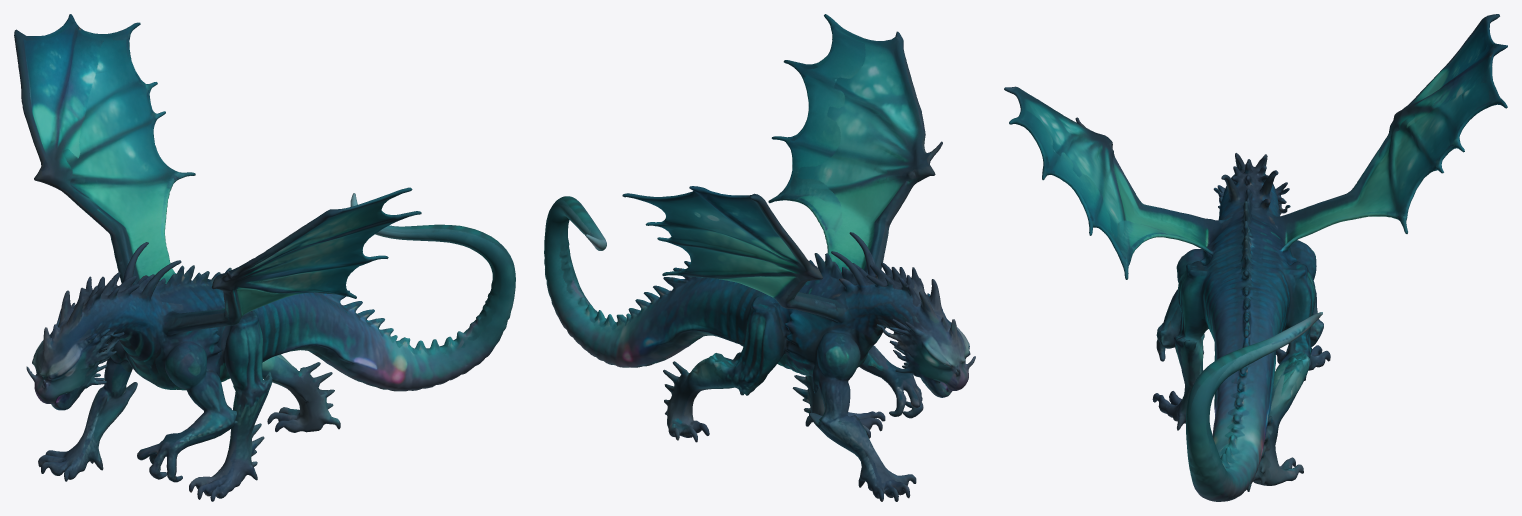
The model's file is romantex_25.glb.
The picture shows the model from 3 angles, left to right: view 1: azimuth 30°, elevation 25°; view 2: azimuth 150°, elevation 25°; view 3: azimuth 270°, elevation 25°; orthographic projection. The views are drawn at different scales.
Visible parts, largest first — view 1: texture_v130_hdr_21w_pbr_dino_11w.001; view 2: texture_v130_hdr_21w_pbr_dino_11w.001; view 3: texture_v130_hdr_21w_pbr_dino_11w.001.
Part boxes in pixels (x1,y1,x2,y2): texture_v130_hdr_21w_pbr_dino_11w.001: (14, 14, 515, 501); texture_v130_hdr_21w_pbr_dino_11w.001: (544, 14, 975, 501); texture_v130_hdr_21w_pbr_dino_11w.001: (1004, 14, 1507, 501).
Size of the model in its own units: 2 by 1.53 by 1.85.
Materials: 1 (1 with a texture image).
